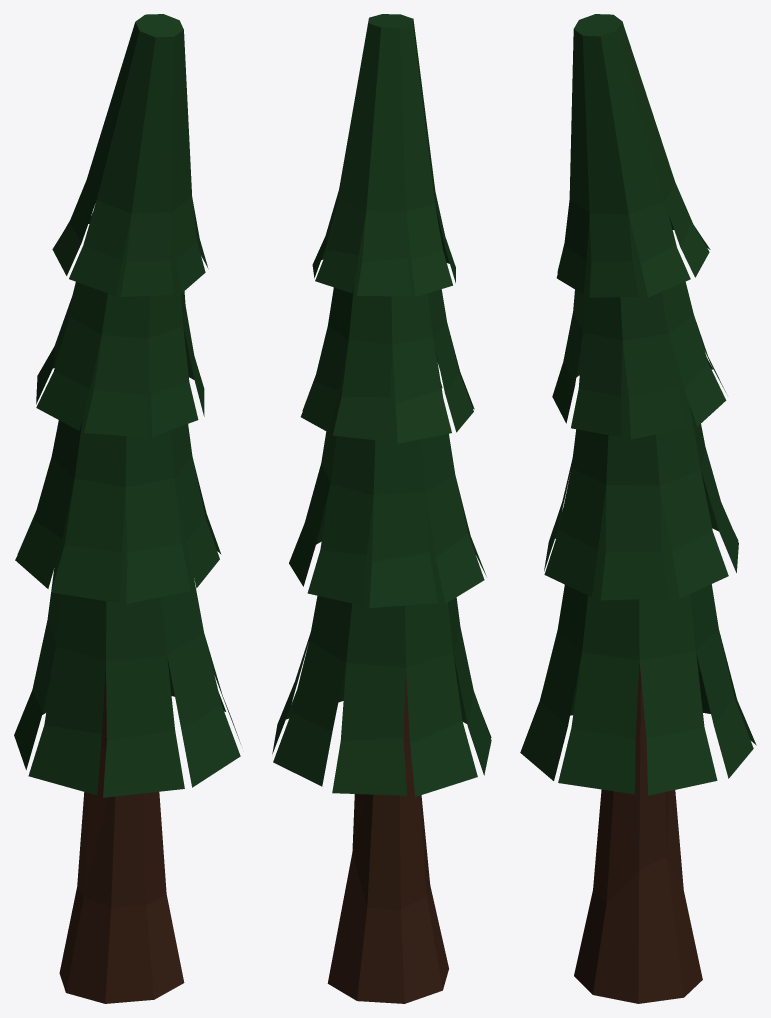
File: Tree6.fbx
3 views of the same model, side by side, from view 1: azimuth 30°, elevation 25°; view 2: azimuth 150°, elevation 25°; view 3: azimuth 270°, elevation 25° (orthographic). The views are drawn at different scales.
Visible parts, largest first — view 1: TreetTrunk; view 2: TreetTrunk; view 3: TreetTrunk.
Part boxes in pixels (x1,y1,x2,y2): TreetTrunk: [14, 14, 240, 1003]; TreetTrunk: [272, 14, 491, 1003]; TreetTrunk: [520, 14, 756, 1003].
Size of the model in its own units: 276 by 1245 by 276.
